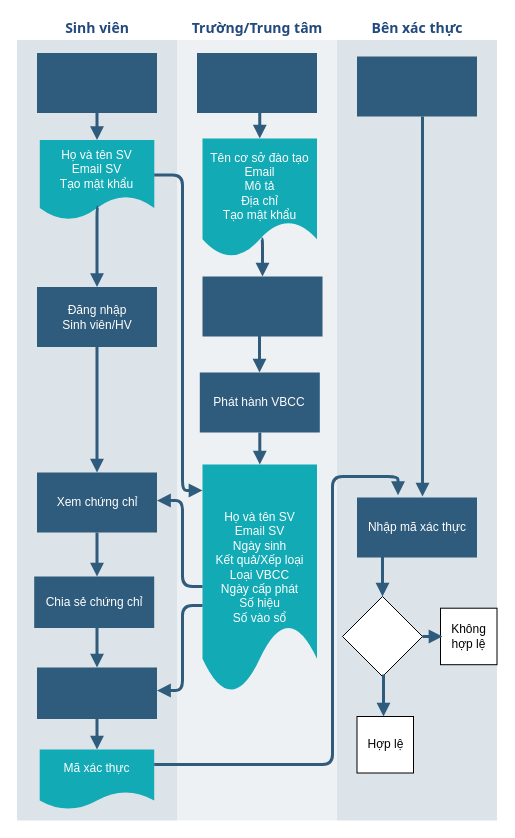
This 515x838 diagram has some shape labels left out. The shapes that lost their labels are listed below. From the top down, each one's centre as x and y in pixels, then its label:
(x=96, y=82): Đăng ký Sinh viên/HV
(x=256, y=82): Đăng ký cơ sở đào tạo
(x=416, y=86): Xác thực chứng chỉ
(x=262, y=306): Đăng nhập cơ sở đào tạo
(x=382, y=636): Kiểm tra hợp lệ
(x=96, y=692): Chọn thông tin chia sẻ
